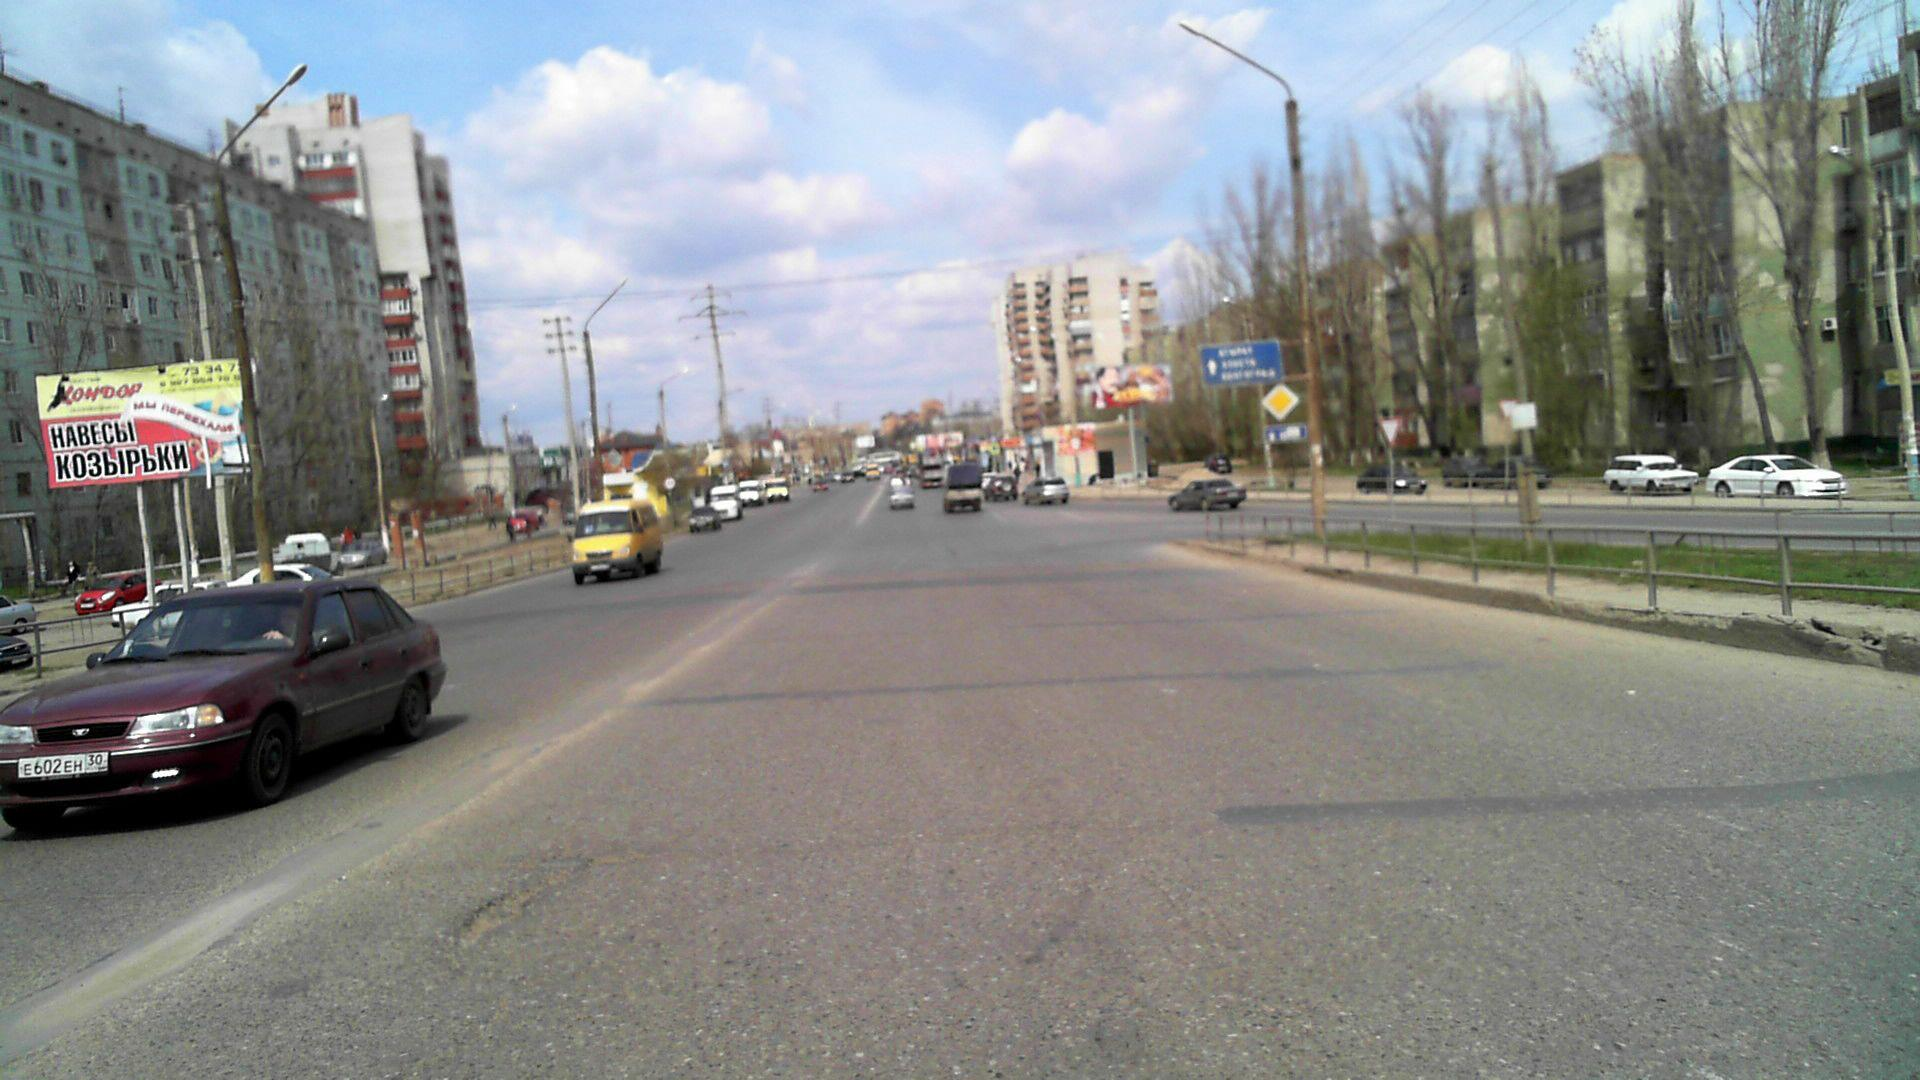2_1: (1259, 381, 1300, 419)
2_4: (1378, 418, 1399, 443), (1494, 398, 1516, 419)
6_10_1: (1199, 342, 1286, 382)
6_15_1: (1265, 423, 1307, 442)
